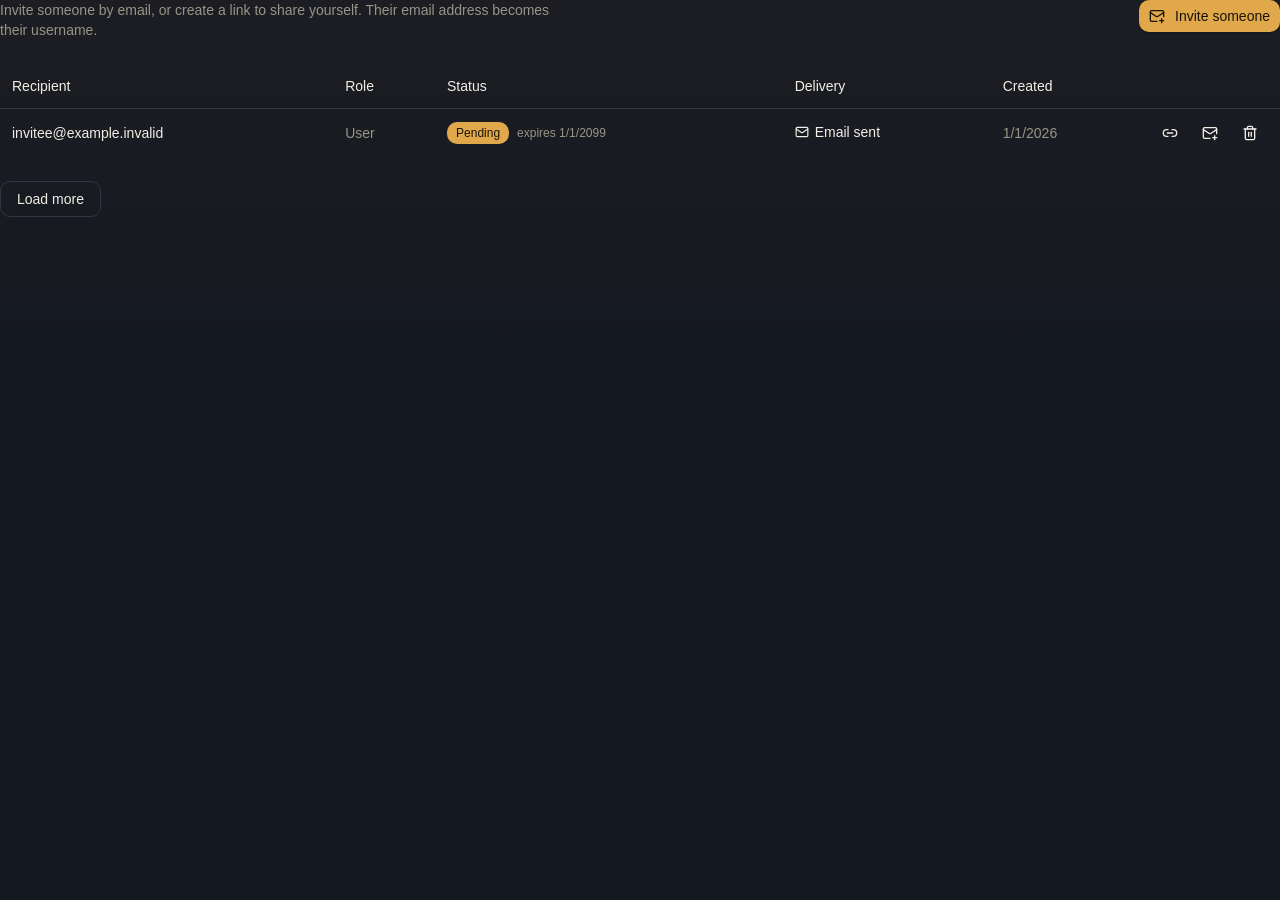
Scenario: creates a link invitation without an address and shows the link to share
Click the button "Invite someone" at [1210, 16], box left=1139, top=0, right=1279, bottom=32
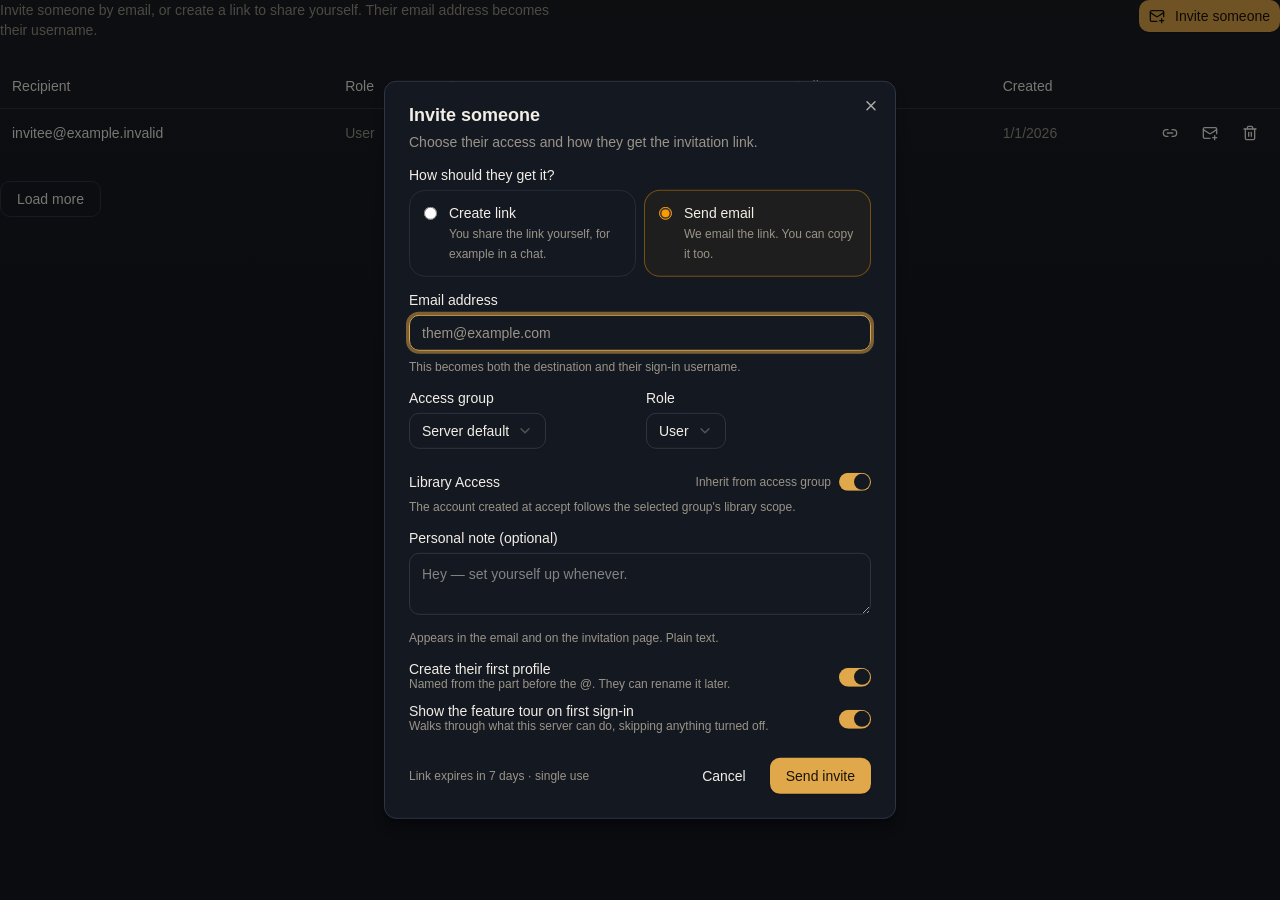
Check: the radio button labelled "Send email" is checked, box left=659, top=207, right=672, bottom=220
Click the radio button labelled "Create link" at [430, 213], box left=424, top=207, right=437, bottom=220
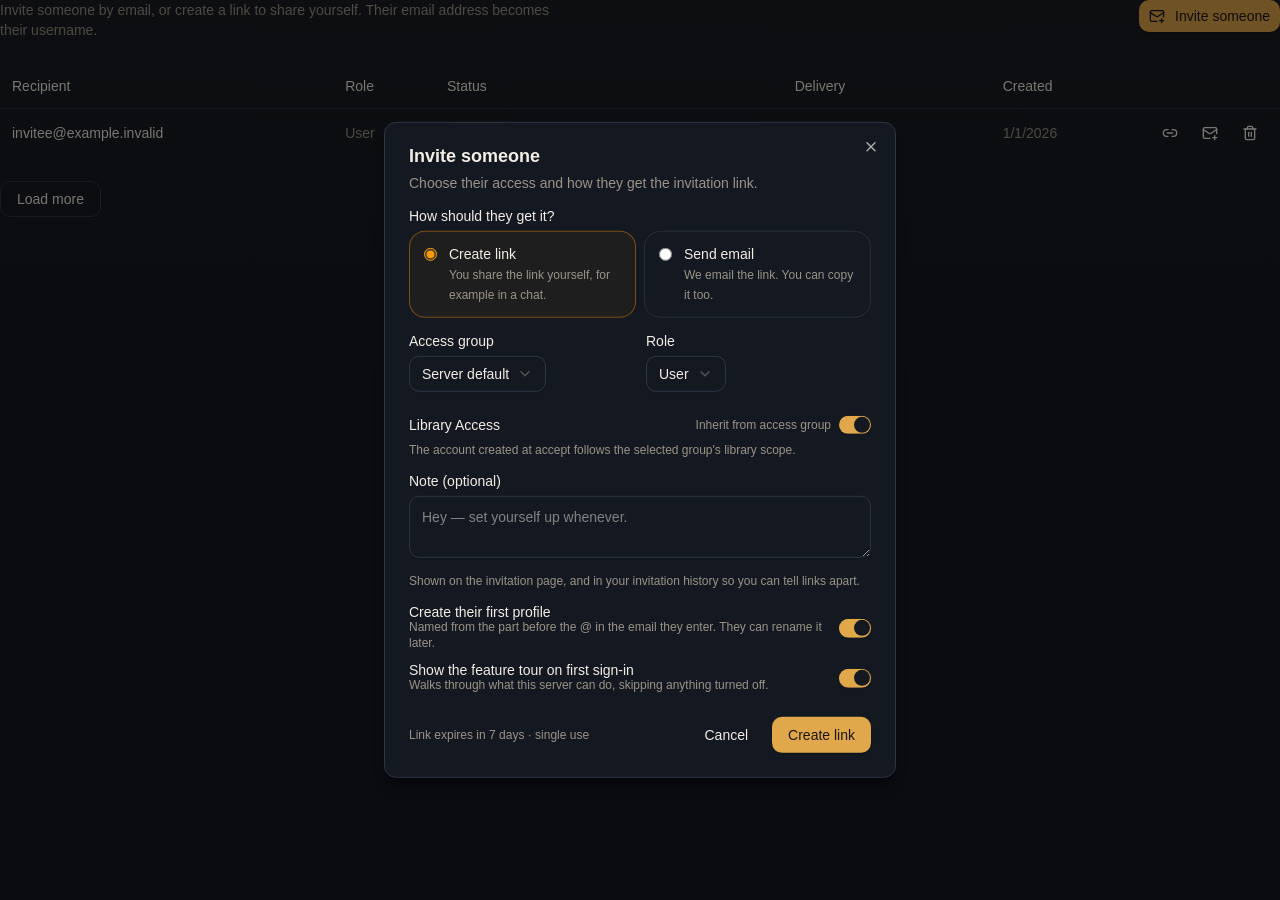
Type "For Sam" into the text box labelled "Note (optional)" at [640, 527], box left=409, top=496, right=871, bottom=558
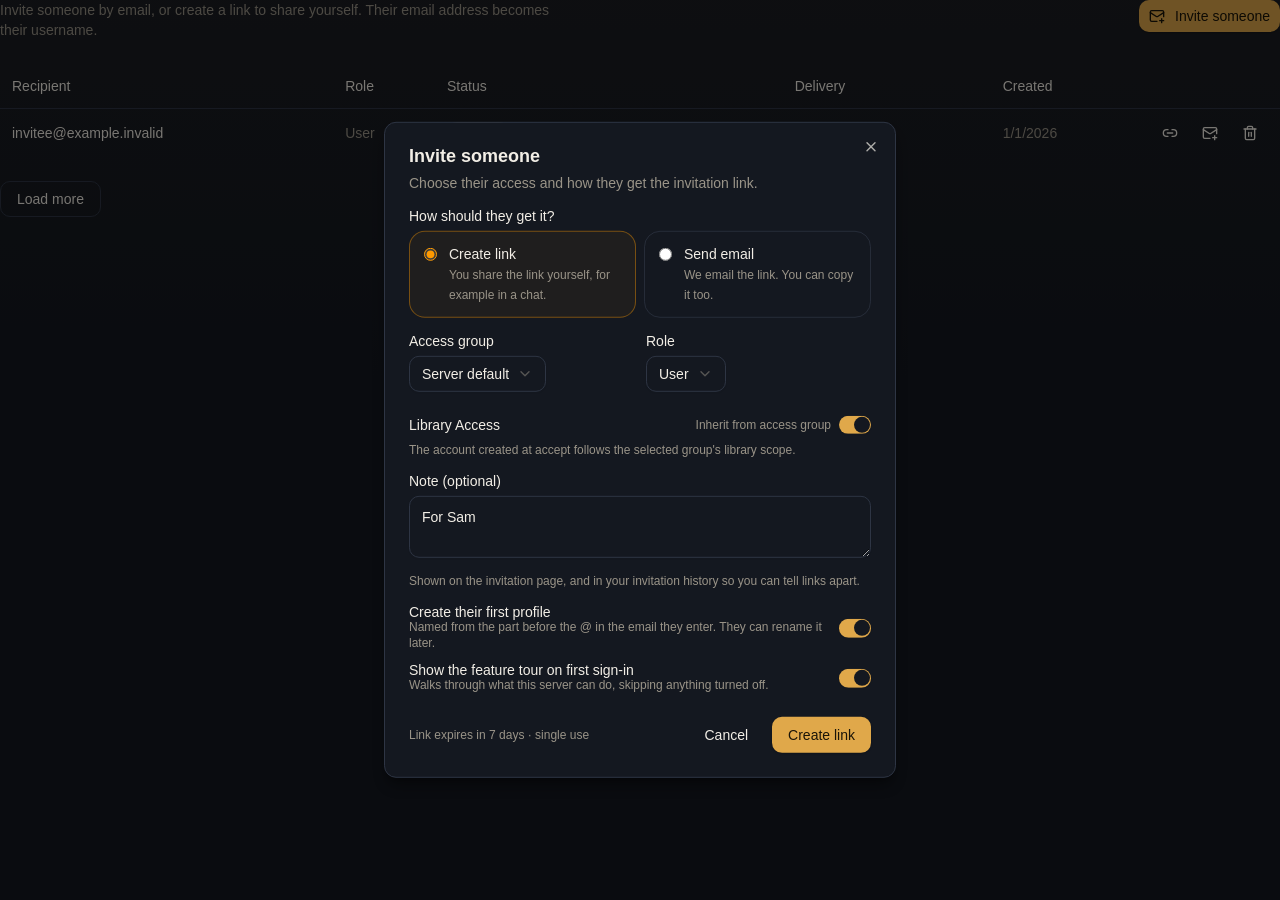
Click the button "Create link" at [822, 735], box left=772, top=717, right=871, bottom=753
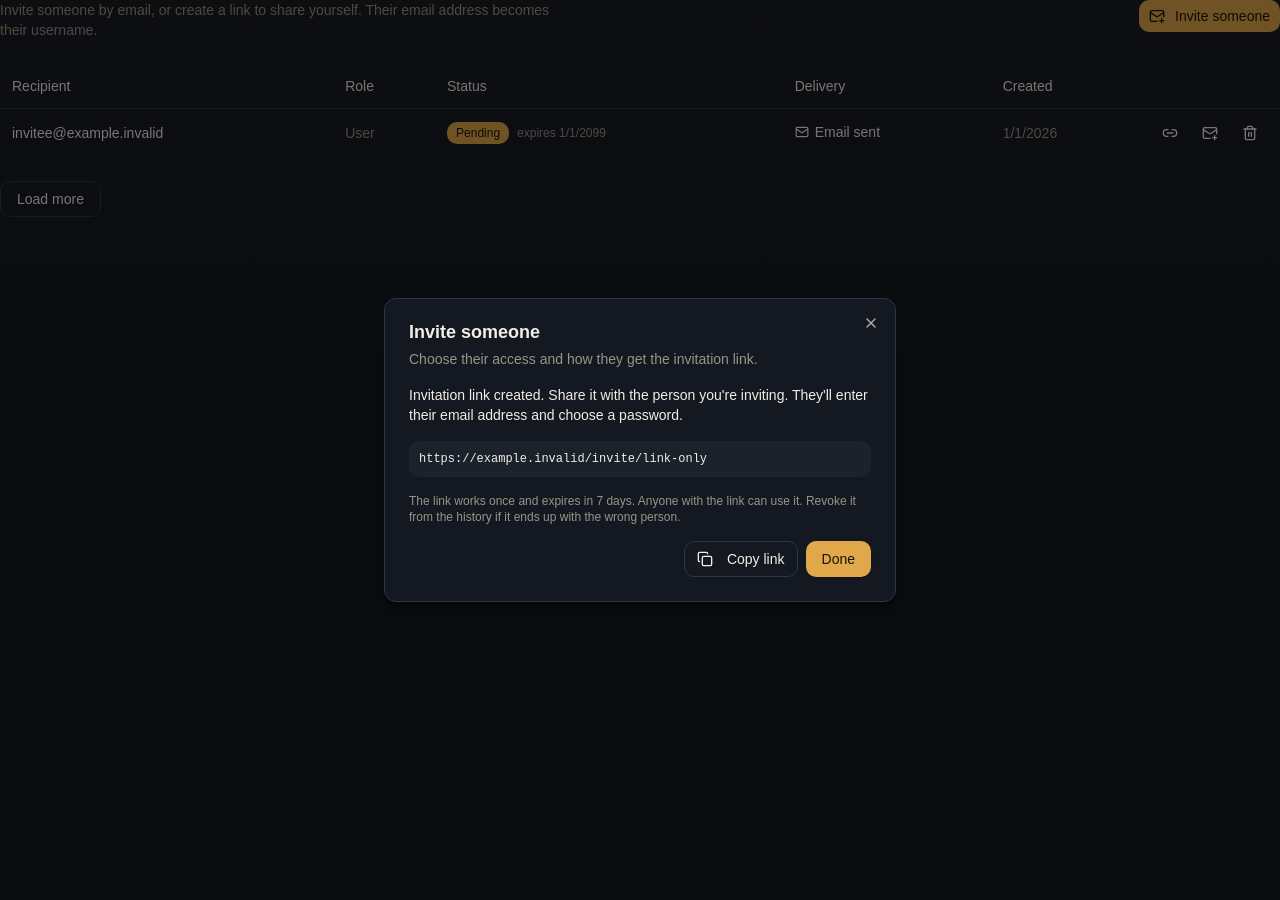
Check: the text "Invitation link created" is shown, box left=409, top=387, right=868, bottom=423
Check: the text "https://example.invalid/invite/link-only" is shown, box left=419, top=452, right=707, bottom=466
Check: the text "Anyone with the link can use it" is shown, box left=409, top=494, right=856, bottom=524
